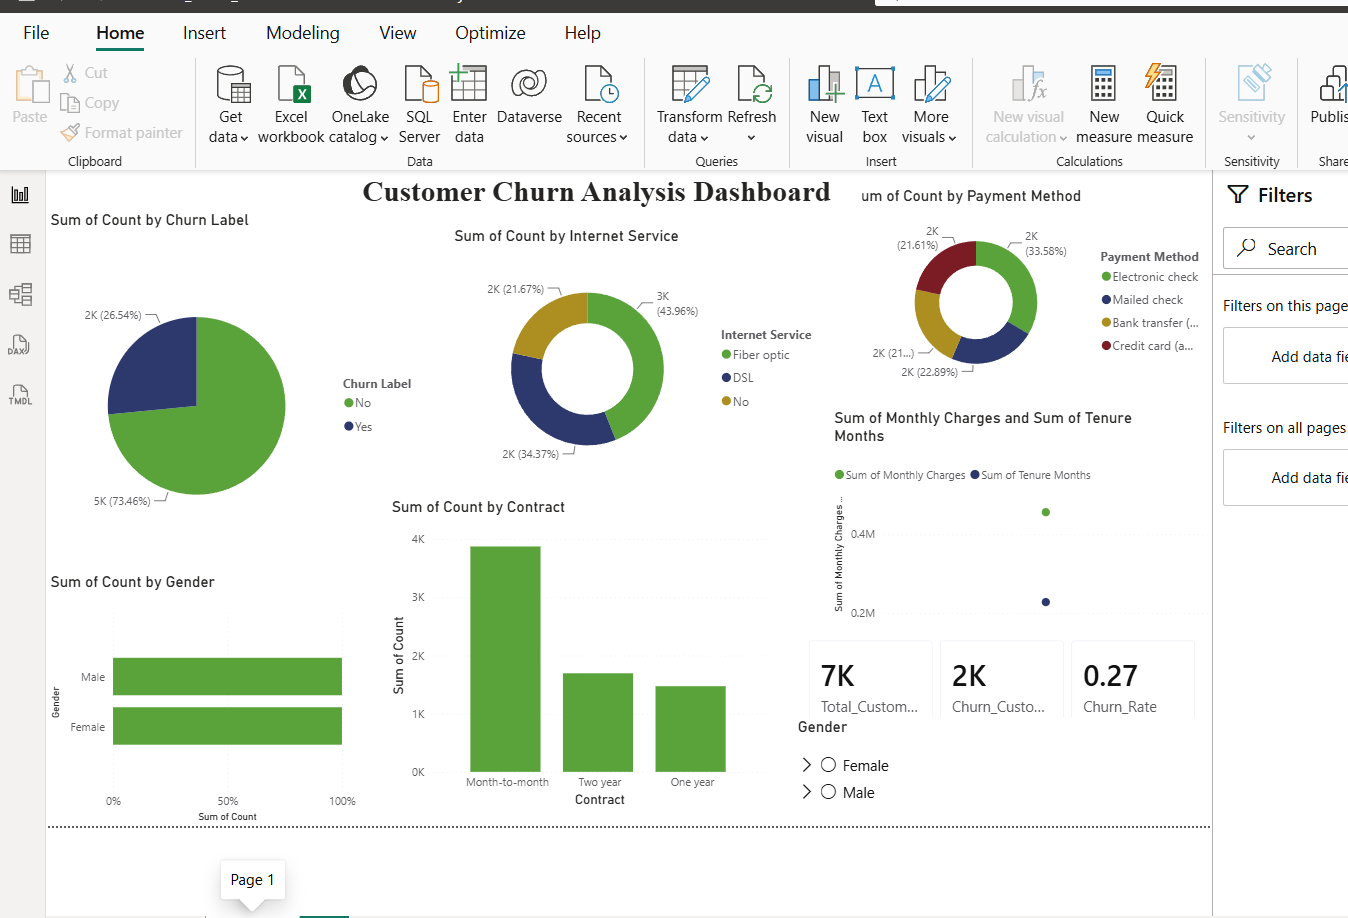

Layout of this report page (visuals, bound fields, positions):
{"tool":"powerbi","page":{"name":"Page 1","canvas":[1280,720],"ordinal":0},"visuals":[{"type":"cardVisual","fields":{"Data":["cleaned_customer_churn.Total_Customers","cleaned_customer_churn.Churn_Customers","cleaned_customer_churn.Churn_Rate"]},"box":[820,500,460,130],"z":0},{"type":"pieChart","fields":{"Category":["cleaned_customer_churn.Churn Label"],"Y":["Sum(cleaned_customer_churn.Count)"]},"box":[0,43.3,424.1,398.3],"z":1000},{"type":"hundredPercentStackedBarChart","fields":{"Category":["cleaned_customer_churn.Gender"],"Y":["Sum(cleaned_customer_churn.Count)"]},"box":[0,441.8,345.1,279],"z":2000},{"type":"columnChart","fields":{"Category":["cleaned_customer_churn.Contract"],"Y":["Sum(cleaned_customer_churn.Count)"]},"box":[375,360,421.7,345],"z":3000},{"type":"donutChart","fields":{"Category":["cleaned_customer_churn.Internet Service"],"Y":["Sum(cleaned_customer_churn.Count)"]},"box":[443.3,61.7,416.7,281.7],"z":4000},{"type":"donutChart","fields":{"Category":["cleaned_customer_churn.Payment Method"],"Y":["Sum(cleaned_customer_churn.Count)"]},"box":[880,18.3,400,223.3],"z":5000},{"type":"listSlicer","fields":{"Values":["cleaned_customer_churn.Gender","cleaned_customer_churn.Contract","cleaned_customer_churn.Internet Service"]},"box":[820,601.7,460,118.3],"z":6000},{"type":"lineChart","fields":{"Y":["Sum(cleaned_customer_churn.Monthly Charges)","Sum(cleaned_customer_churn.Tenure Months)"]},"box":[860,261.7,420,238.3],"z":7000},{"type":"textbox","box":[313.3,0,583.3,55],"z":8000}]}

Visuals, with their boxes on the page's 1280x720 design canvas (x1, y1, x2, y2). These are canvas units, not pixel positions in the 1348x918 screenshot, which may show the page scaled, cropped or inside an application window:
cardVisual - cleaned_customer_churn.Total_Customers x cleaned_customer_churn.Churn_Customers: Rect(820, 500, 1280, 630)
pieChart - cleaned_customer_churn.Churn Label x Sum(cleaned_customer_churn.Count): Rect(0, 43, 424, 442)
hundredPercentStackedBarChart - cleaned_customer_churn.Gender x Sum(cleaned_customer_churn.Count): Rect(0, 442, 345, 721)
columnChart - cleaned_customer_churn.Contract x Sum(cleaned_customer_churn.Count): Rect(375, 360, 797, 705)
donutChart - cleaned_customer_churn.Internet Service x Sum(cleaned_customer_churn.Count): Rect(443, 62, 860, 343)
donutChart - cleaned_customer_churn.Payment Method x Sum(cleaned_customer_churn.Count): Rect(880, 18, 1280, 242)
listSlicer - cleaned_customer_churn.Gender x cleaned_customer_churn.Contract: Rect(820, 602, 1280, 720)
lineChart - Sum(cleaned_customer_churn.Monthly Charges) x Sum(cleaned_customer_churn.Tenure Months): Rect(860, 262, 1280, 500)
textbox: Rect(313, 0, 897, 55)
